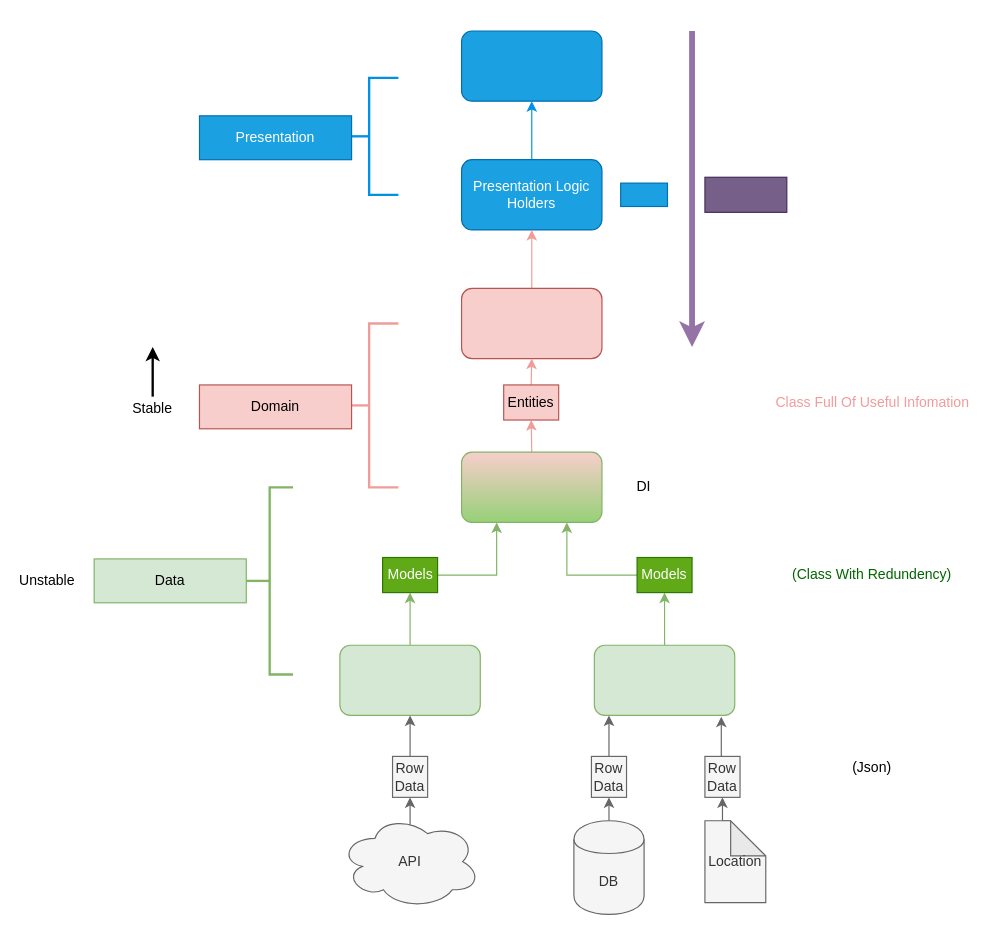
Some shapes in this 994 by 935 pixel diagram are drawn without their labels. The box of each missing label's shape, as (x1, y1, x2, y2) in pixels:
BLoC: (620, 182, 667, 207)
Call Flow: (704, 176, 787, 212)
Local Data Sources: (593, 644, 735, 715)
Remote Data Sources: (339, 644, 480, 715)
Repositories: (460, 451, 602, 522)
Use Case: (460, 287, 602, 359)
Widgets: (460, 30, 602, 101)
